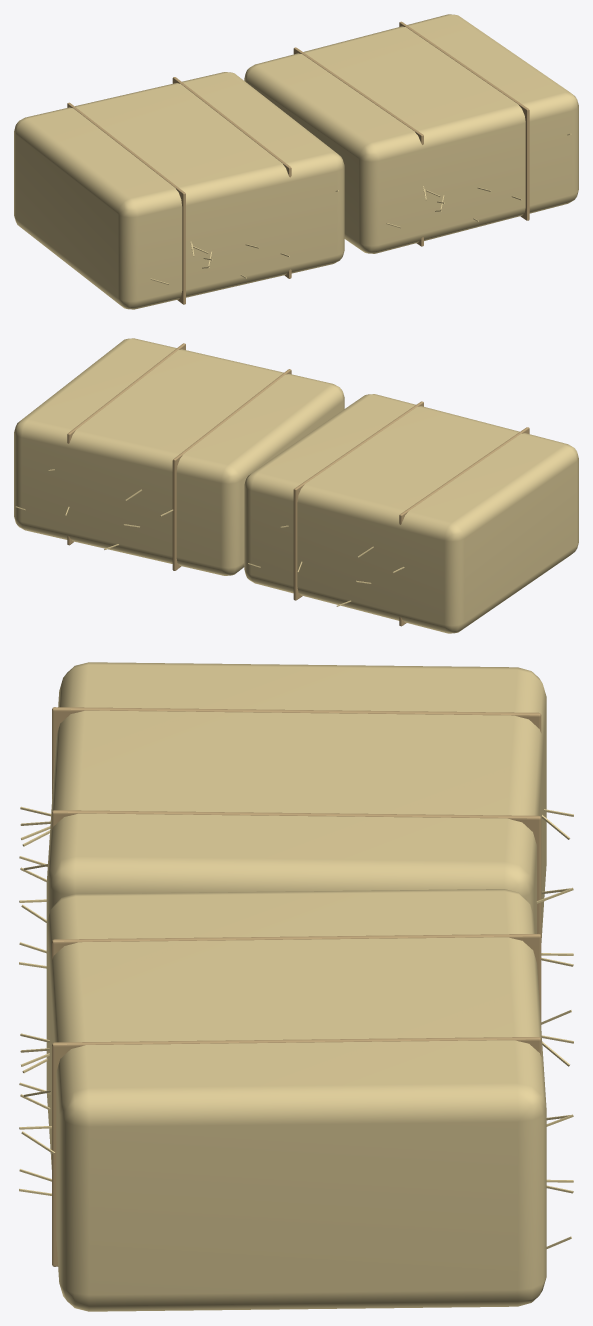
Rendered from farm.bale.hay_stack.glb.
The picture shows the model from 3 angles, top to bottom: view 1: azimuth 30°, elevation 25°; view 2: azimuth 150°, elevation 25°; view 3: azimuth 270°, elevation 25°; orthographic projection. The views are drawn at different scales.
Parts seen in each view (by area): view 1: main__paint_dc9, main__paint_ca7; view 2: main__paint_dc9, main__paint_ca7; view 3: main__paint_dc9, main__paint_ca7.
Part boxes in pixels (x1,y1,x2,y2): main__paint_dc9: [14, 14, 578, 309]; main__paint_ca7: [67, 21, 529, 304]; main__paint_dc9: [14, 338, 578, 633]; main__paint_ca7: [67, 343, 529, 626]; main__paint_dc9: [19, 662, 573, 1311]; main__paint_ca7: [52, 707, 541, 1266].
Bounding box in the file's own units: 2.17 × 0.505 × 1.14.
